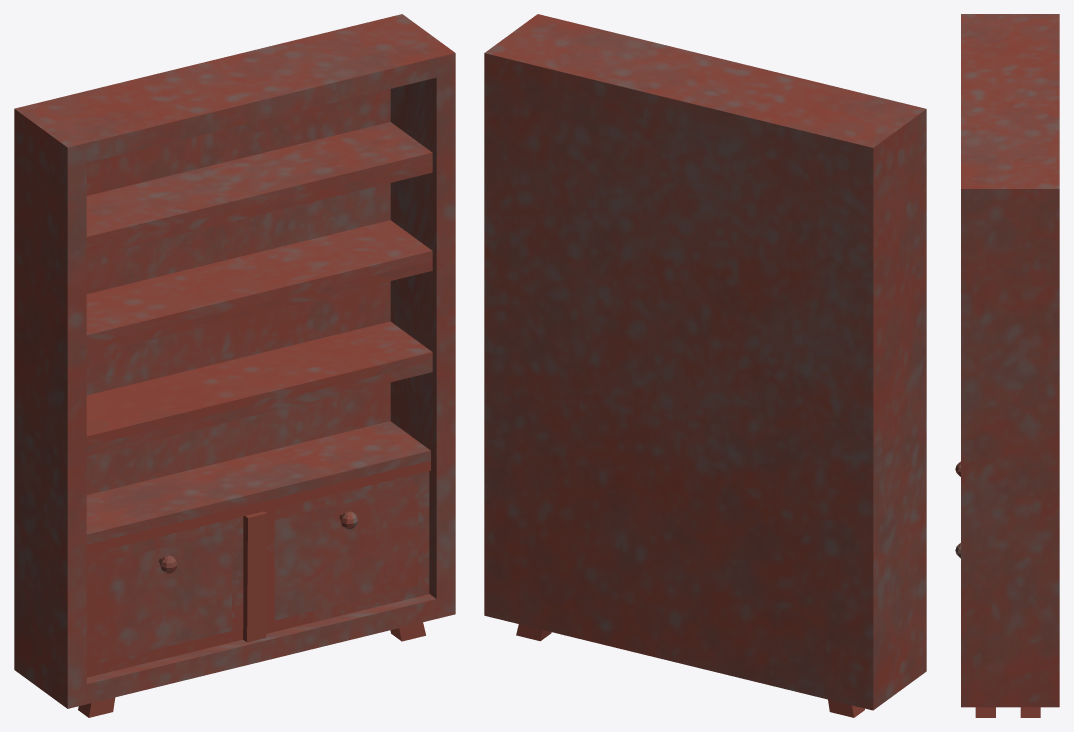
File: Armario.fbx
The picture shows the model from 3 angles, left to right: view 1: azimuth 30°, elevation 25°; view 2: azimuth 150°, elevation 25°; view 3: azimuth 270°, elevation 25°; orthographic projection. The views are drawn at different scales.
Parts seen in each view (by area): view 1: EstanteMofada; view 2: EstanteMofada; view 3: EstanteMofada.
Part boxes in pixels (box(x1,y1,x2,y2)): EstanteMofada: box(14, 14, 455, 717); EstanteMofada: box(484, 14, 926, 717); EstanteMofada: box(955, 14, 1059, 717).
Bounding box in the file's own units: 292 × 420 × 73.61.
